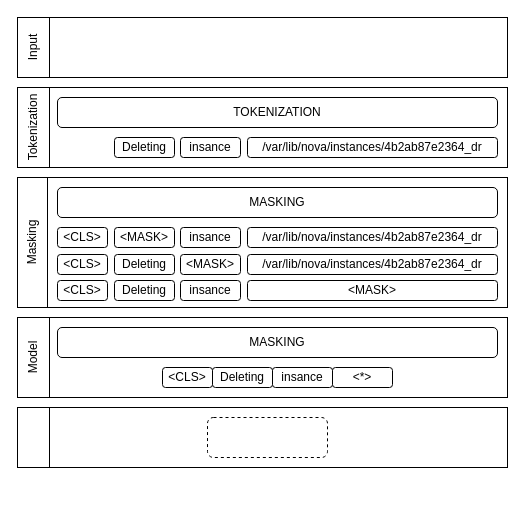
The diagram is 525 pixels wide and 515 high, and some of its shapes have lost their labels. The box of each missing label's shape, as (x1, y1, x2, y2) in pixels:
Deleting instance /var/lib/nova/instances/4b2ab87e2364_dr: (16, 16, 508, 78)
Extraction: (16, 406, 50, 468)
generated template: (206, 416, 328, 458)
